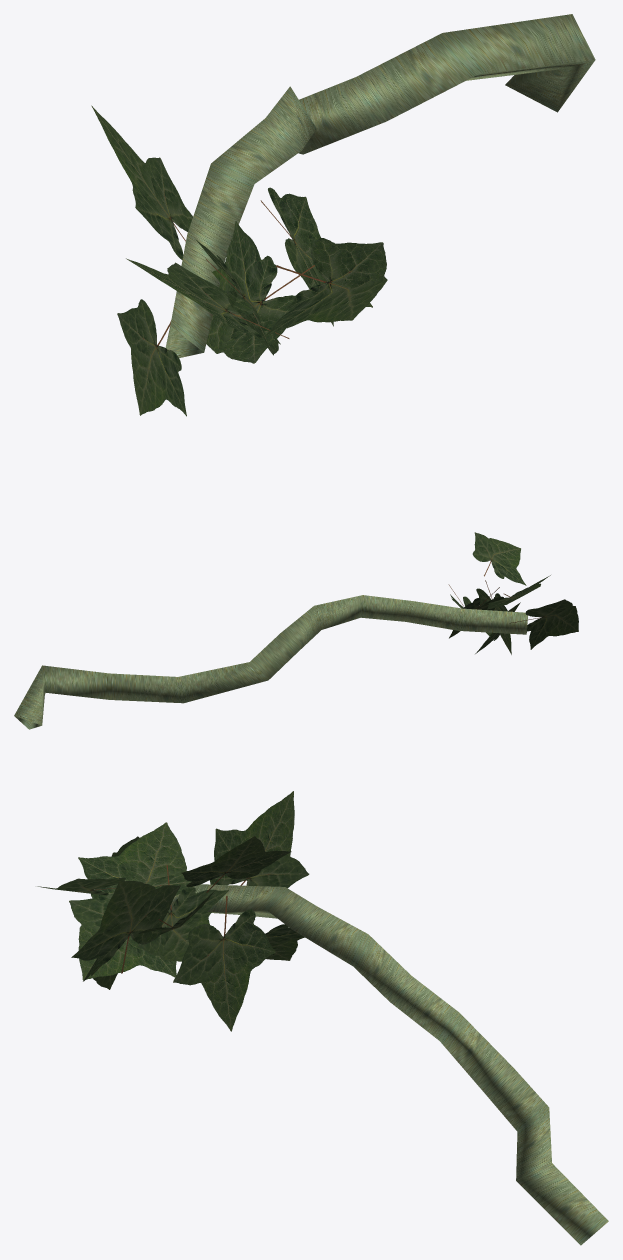
Rendered from RAMITA.FBX.
3 views of the same model, one above another, from view 1: azimuth 30°, elevation 25°; view 2: azimuth 150°, elevation 25°; view 3: azimuth 270°, elevation 25° (orthographic). The views are drawn at different scales.
Visible parts, largest first — view 1: RAMITA; view 2: RAMITA; view 3: RAMITA.
Part boxes in pixels (x1=…): RAMITA: x1=91, y1=14, x2=595, y2=416; RAMITA: x1=14, y1=532, x2=578, y2=729; RAMITA: x1=37, y1=791, x2=608, y2=1245.
Bounding box in the file's own units: 140 × 56.77 × 125.
Materials: 2 (2 with a texture image).
